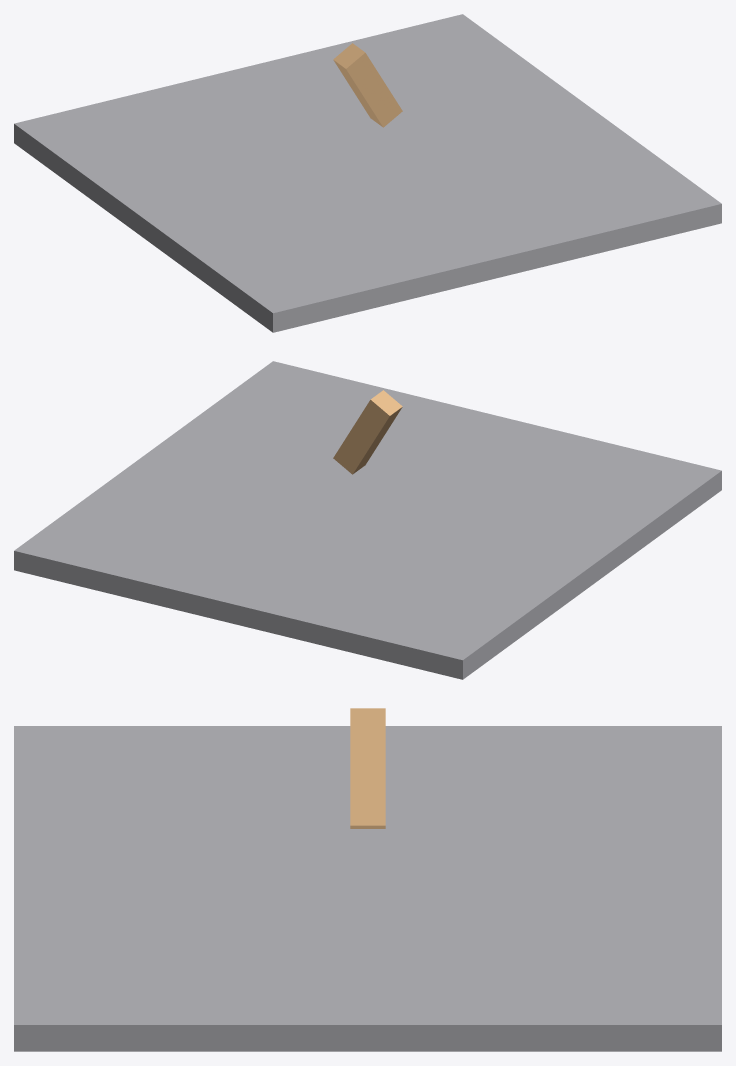
The model's file is ToppleDemo.gltf.
3 views of the same model, one above another, from view 1: azimuth 30°, elevation 25°; view 2: azimuth 150°, elevation 25°; view 3: azimuth 270°, elevation 25° (orthographic). The views are drawn at different scales.
Visible parts, largest first — view 1: Floor, TallBox; view 2: Floor, TallBox; view 3: Floor, TallBox.
Part boxes in pixels (x1=…): Floor: x1=14, y1=14, x2=721, y2=332; TallBox: x1=333, y1=43, x2=402, y2=127; Floor: x1=14, y1=361, x2=721, y2=679; TallBox: x1=333, y1=390, x2=402, y2=474; Floor: x1=14, y1=726, x2=721, y2=1051; TallBox: x1=350, y1=708, x2=385, y2=828.
Size of the model in its own units: 12 by 3.52 by 12.
